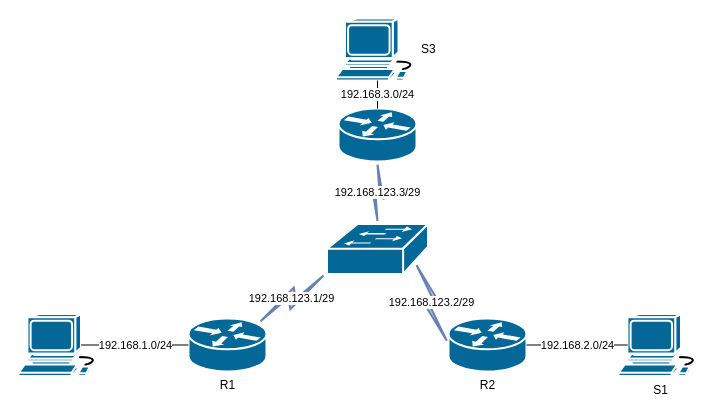
Image size: 719x414. Some labels were removed from this diagram. The centre of each missing label's shape, as x and y in pixels:
"R3" goes at (377,134).
"S2" goes at (59,344).
